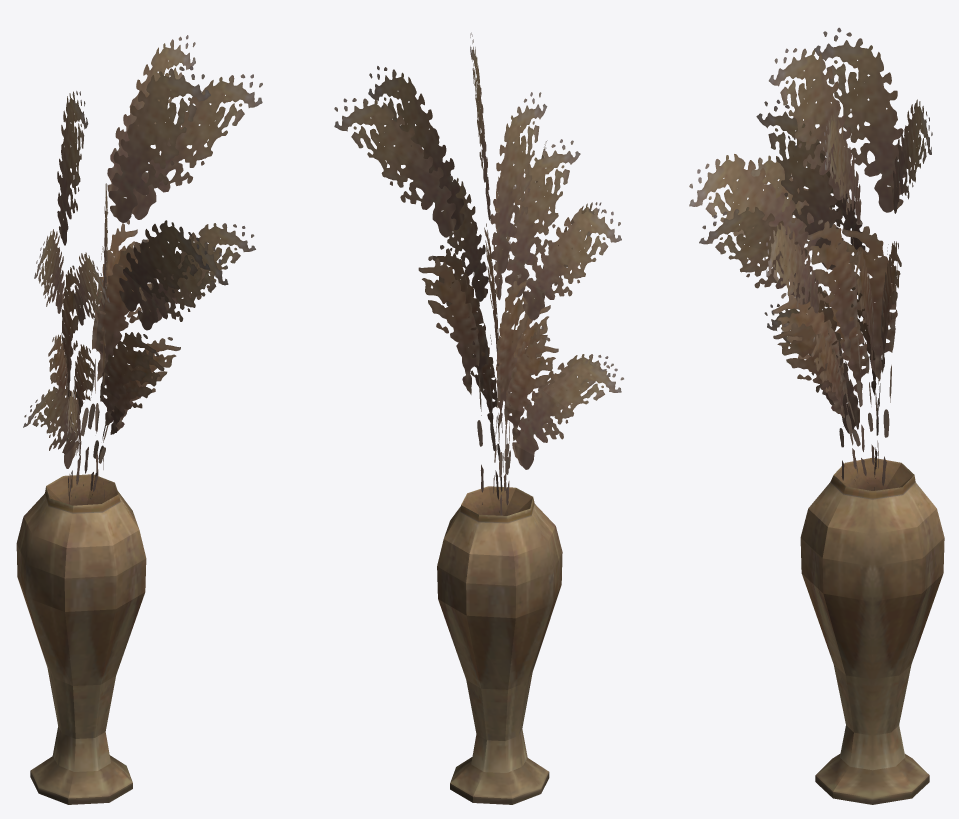
The model's file is bg_lut_lucastle_flowerpot02a_sm_artree.FBX.
3 renders of one model, left to right at view 1: azimuth 30°, elevation 25°; view 2: azimuth 150°, elevation 25°; view 3: azimuth 270°, elevation 25°, orthographic. The views are drawn at different scales.
Visible parts, largest first — view 1: bg_lut_lucastle_flowerpot02a_sm_artree; view 2: bg_lut_lucastle_flowerpot02a_sm_artree; view 3: bg_lut_lucastle_flowerpot02a_sm_artree.
Boxes of the visible parts, x1=… form: bg_lut_lucastle_flowerpot02a_sm_artree: x1=16, y1=35, x2=262, y2=804; bg_lut_lucastle_flowerpot02a_sm_artree: x1=334, y1=32, x2=623, y2=804; bg_lut_lucastle_flowerpot02a_sm_artree: x1=689, y1=27, x2=944, y2=804.
Size of the model in its own units: 91.96 by 231 by 73.18.
